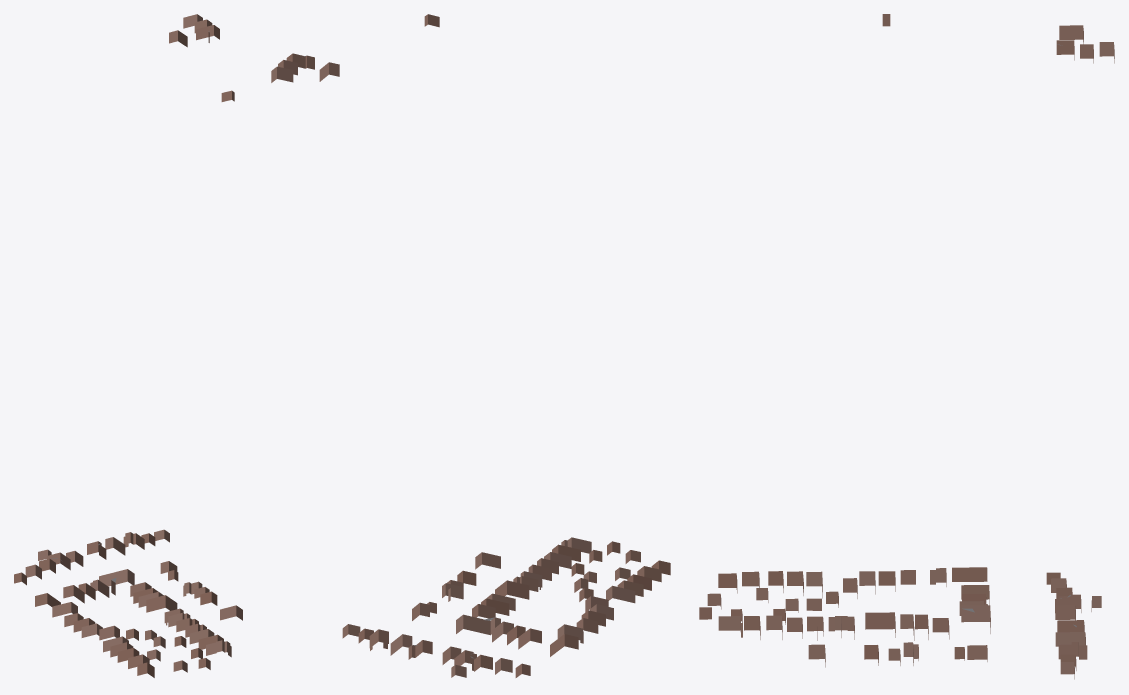
Rendered from c_1638_17823_buildings_residential.glb.
The picture shows the model from 3 angles, left to right: view 1: azimuth 30°, elevation 25°; view 2: azimuth 150°, elevation 25°; view 3: azimuth 270°, elevation 25°; orthographic projection. The views are drawn at different scales.
Visible parts, largest first — view 1: geometry_0; view 2: geometry_0; view 3: geometry_0.
Boxes of the visible parts, x1,y1,x2,y2 form: geometry_0: [14, 14, 242, 677]; geometry_0: [271, 14, 670, 677]; geometry_0: [699, 14, 1114, 679].
Size of the model in its own units: 193 by 440 by 248.
